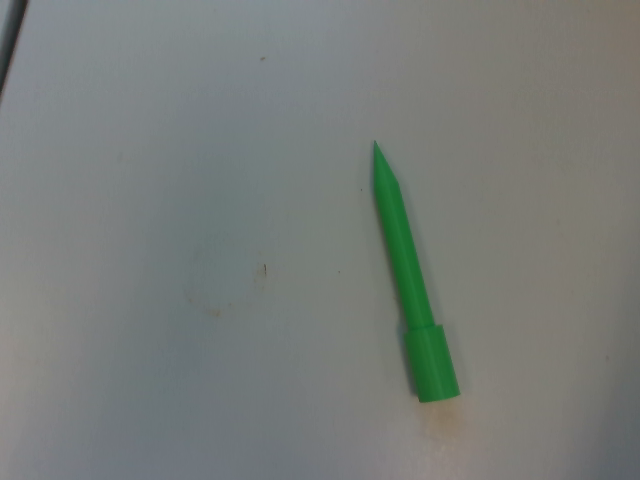Probe: (365, 131, 469, 411)
